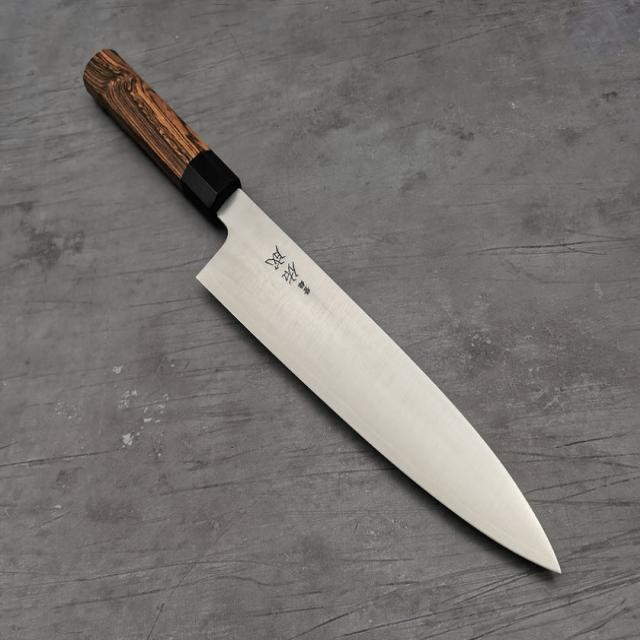knife: (82, 38, 565, 576)
